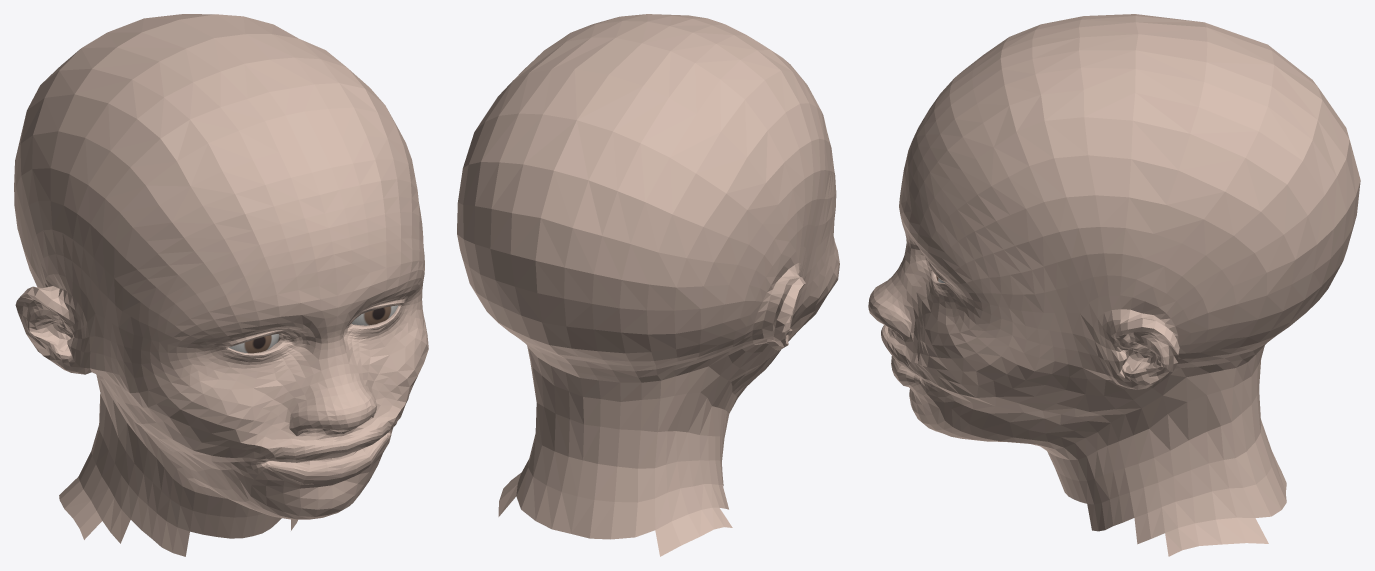
The model's file is karma_face_MH_neutral_AA.glb.
3 views of the same model, side by side, from view 1: azimuth 30°, elevation 25°; view 2: azimuth 150°, elevation 25°; view 3: azimuth 270°, elevation 25° (orthographic). The views are drawn at different scales.
Visible parts, largest first — view 1: head; view 2: head; view 3: head.
Part boxes in pixels (x1,y1,x2,y2): head: [14, 14, 428, 556]; head: [457, 14, 839, 556]; head: [868, 14, 1360, 556].
Size of the model in its own units: 3.03 by 3.91 by 3.7.
